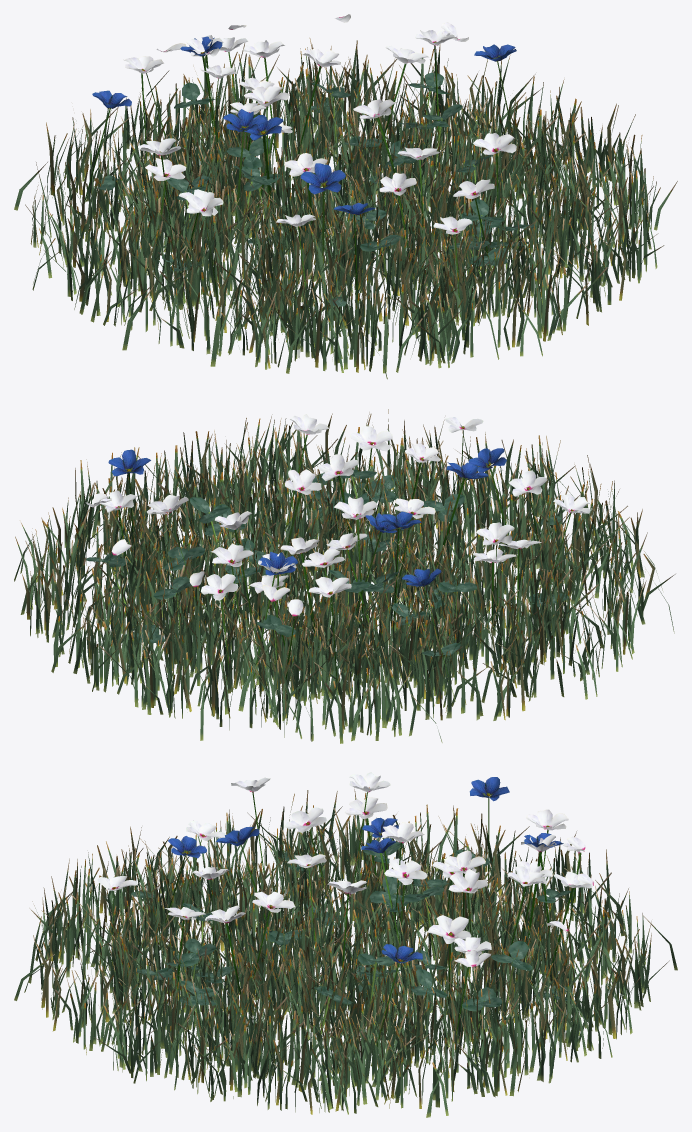
The model's file is grass-c.glb.
The picture shows the model from 3 angles, top to bottom: view 1: azimuth 30°, elevation 25°; view 2: azimuth 150°, elevation 25°; view 3: azimuth 270°, elevation 25°; orthographic projection. The views are drawn at different scales.
Parts seen in each view (by area): view 1: 122; view 2: 122; view 3: 122.
Boxes of the visible parts, x1,y1,x2,y2 form: 122: [14, 14, 677, 379]; 122: [14, 409, 675, 743]; 122: [14, 772, 677, 1117].
Size of the model in its own units: 52.29 by 12.47 by 54.94.
1 material, 1 textured.
